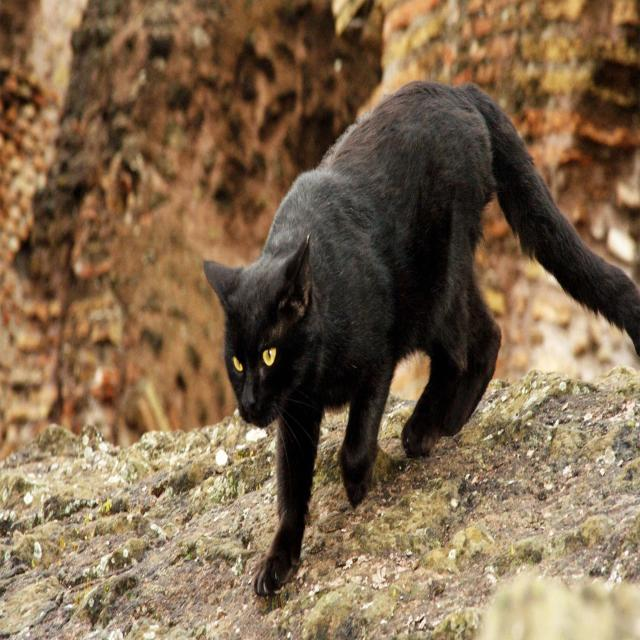cat: (204, 82, 640, 596)
